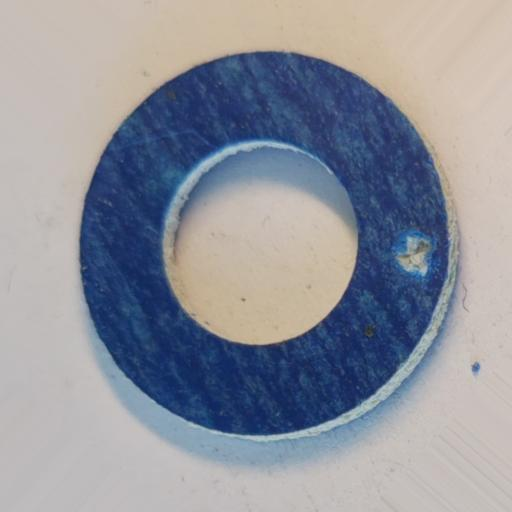defect: (392, 226, 437, 282)
